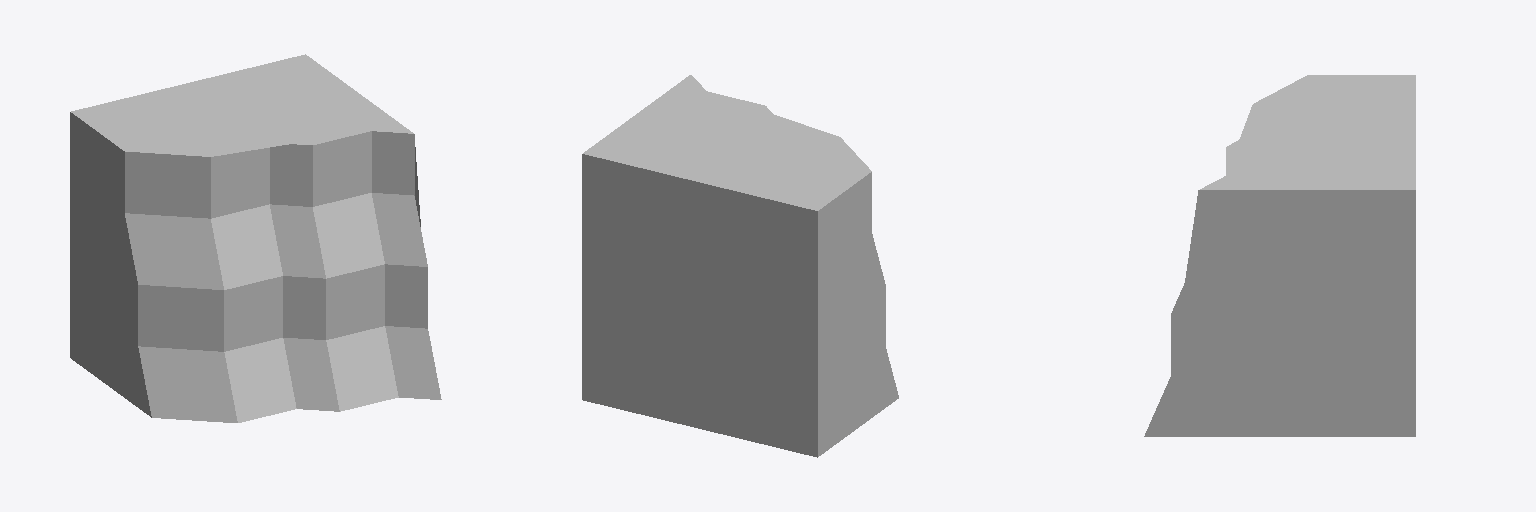
The model's file is door_crown_side.obj.
3 renders of one model, left to right at view 1: azimuth 30°, elevation 25°; view 2: azimuth 150°, elevation 25°; view 3: azimuth 270°, elevation 25°, orthographic.
Visible parts, largest first — view 1: Cube.015_Cube.013; view 2: Cube.015_Cube.013; view 3: Cube.015_Cube.013.
Part boxes in pixels (left/top/right/bottom): Cube.015_Cube.013: left=70, top=54, right=441, bottom=422; Cube.015_Cube.013: left=582, top=75, right=898, bottom=457; Cube.015_Cube.013: left=1144, top=75, right=1415, bottom=436.
Size of the model in its own units: 1 by 1 by 1.